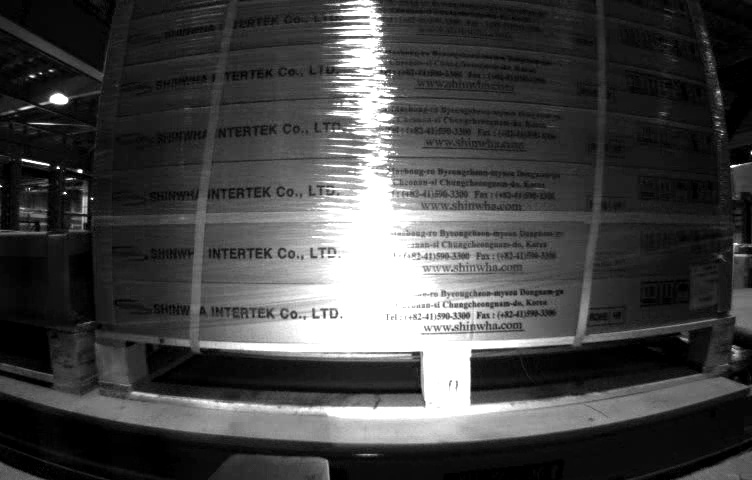True Barcode: (687, 264, 723, 307)
